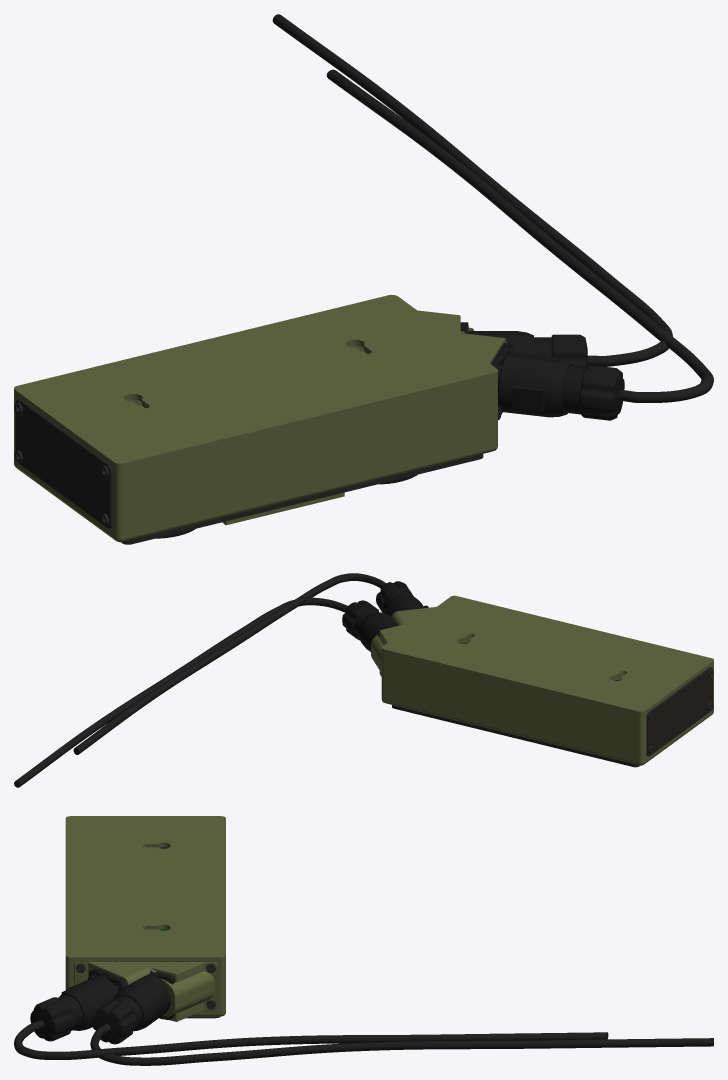
The model's file is claudometre.glb.
3 views of the same model, one above another, from view 1: azimuth 30°, elevation 25°; view 2: azimuth 150°, elevation 25°; view 3: azimuth 270°, elevation 25° (orthographic). The views are drawn at different scales.
Parts seen in each view (by area): view 1: coque, fiche_fusible, fiche, plaque_flanc, platine, plaque_fusible; view 2: coque, fiche_fusible, fiche, plaque_flanc, platine, plaque_fusible, plaque_bossage; view 3: coque, fiche, fiche_fusible, plaque_fusible, plaque_bossage.
Part boxes in pixels (x1,y1,x2,y2): coque: (14,294,497,542); fiche_fusible: (326,69,713,420); fiche: (272,14,672,367); plaque_flanc: (15,398,112,528); platine: (121,454,483,544); plaque_fusible: (447,327,506,363); coque: (381,595,713,765); fiche_fusible: (73,573,428,754); fiche: (14,597,398,787); plaque_flanc: (646,667,712,756); platine: (392,705,640,767); plaque_fusible: (371,607,435,672); plaque_bossage: (379,621,415,676); coque: (65,816,225,1016); fiche: (90,974,713,1065); fiche_fusible: (14,976,608,1059); plaque_fusible: (74,961,217,1016); plaque_bossage: (74,962,217,1021).
Size of the model in its own units: 313 by 55 by 419.
